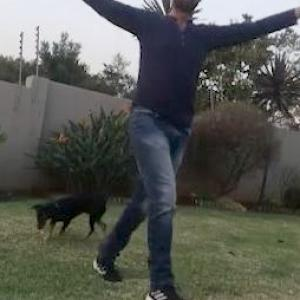takeoff: (36, 0, 299, 264)
